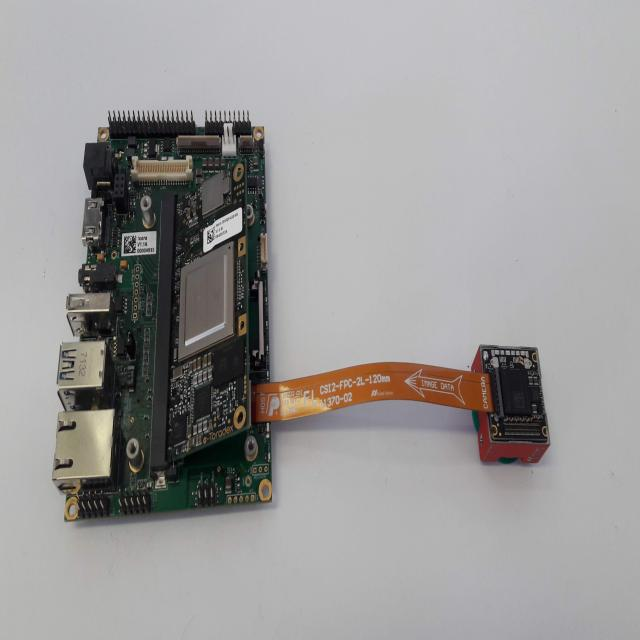som: (164, 158, 258, 470)
